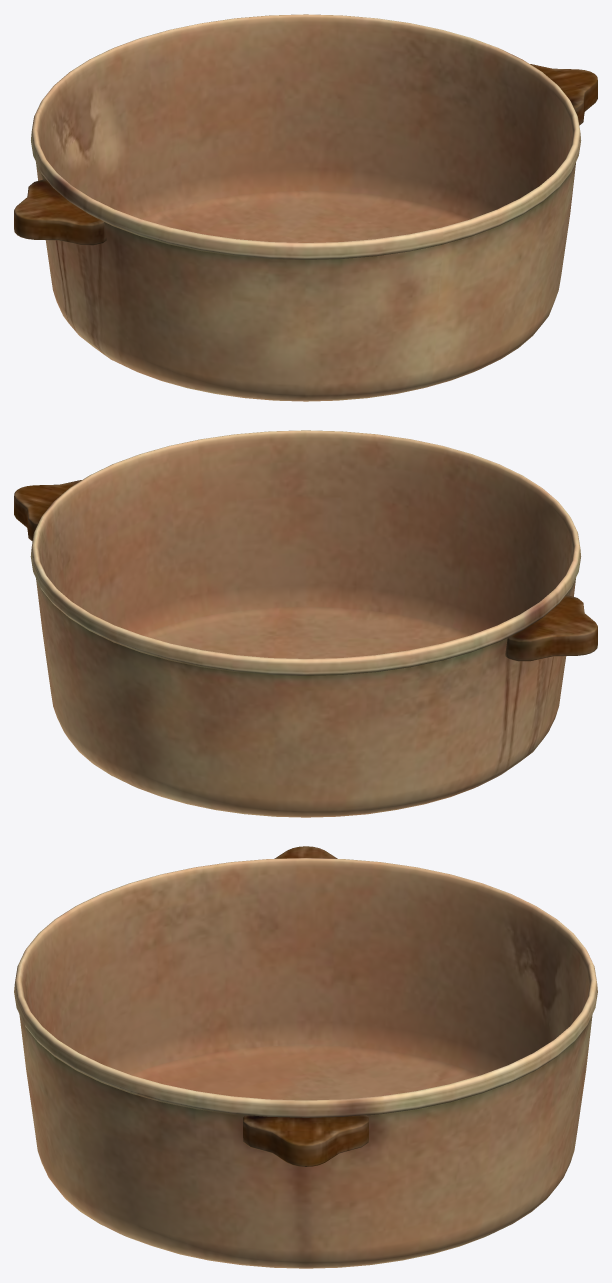
Rendered from brass_pot_02.glb.
3 renders of one model, top to bottom at view 1: azimuth 30°, elevation 25°; view 2: azimuth 150°, elevation 25°; view 3: azimuth 270°, elevation 25°, orthographic. The views are drawn at different scales.
Visible parts, largest first — view 1: brass_pot_02; view 2: brass_pot_02; view 3: brass_pot_02.
Boxes of the visible parts, bbox=[...] form: brass_pot_02: bbox=[14, 14, 597, 401]; brass_pot_02: bbox=[14, 430, 597, 817]; brass_pot_02: bbox=[14, 846, 597, 1268].
Size of the model in its own units: 0.3667 by 0.1085 by 0.3023.
1 material, 1 textured.
